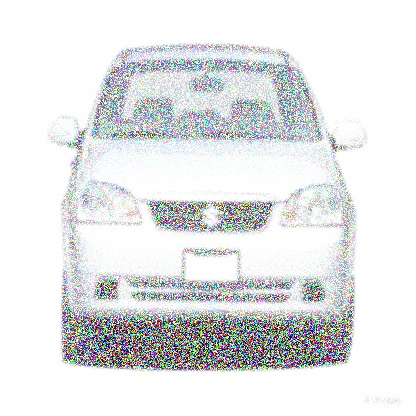Vehicle: (51, 39, 372, 371)
